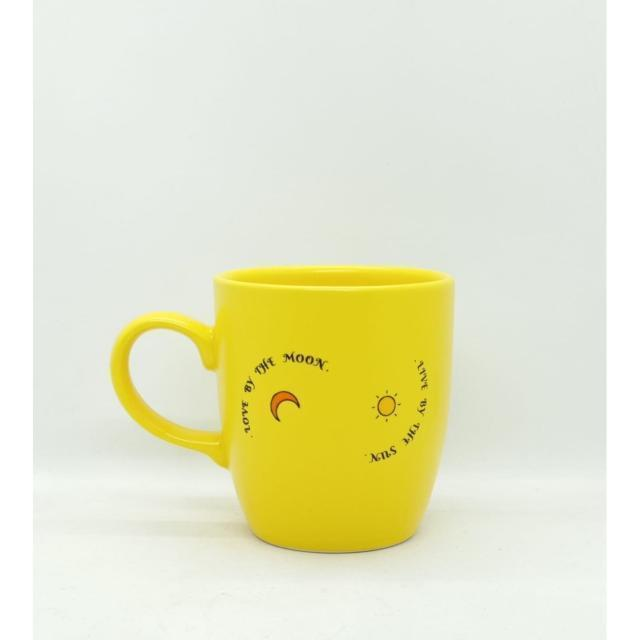taza: (104, 241, 464, 559)
